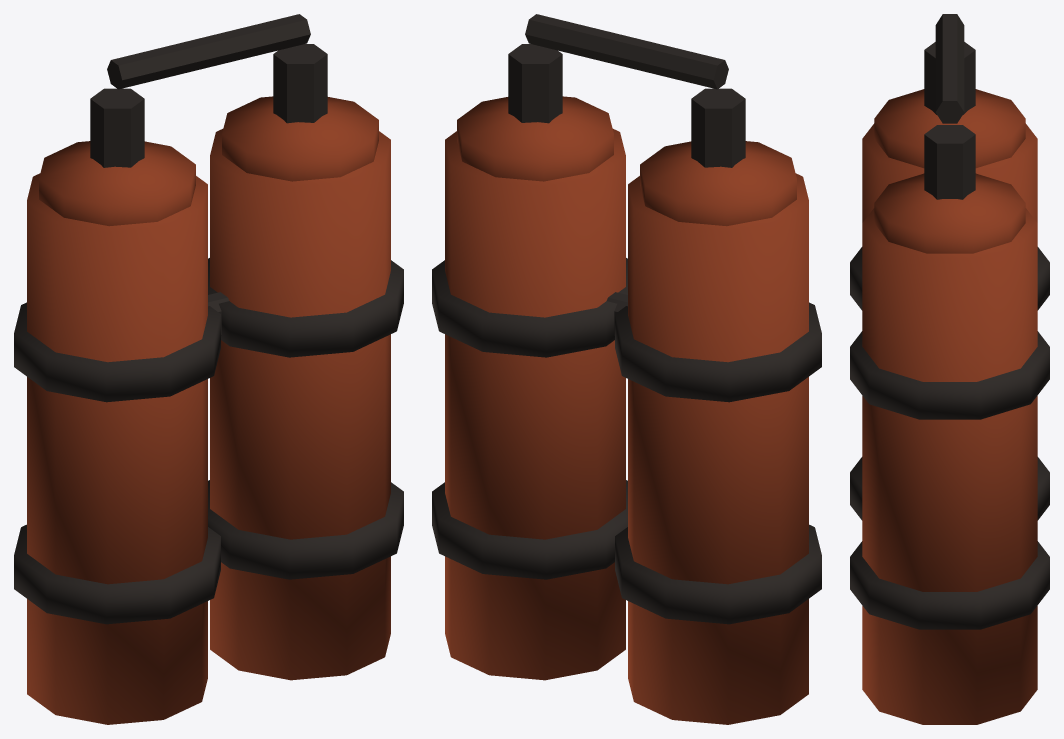
File: tank_pair.glb
3 views of the same model, side by side, from view 1: azimuth 30°, elevation 25°; view 2: azimuth 150°, elevation 25°; view 3: azimuth 270°, elevation 25° (orthographic). The views are drawn at different scales.
Parts seen in each view (by area): view 1: part.tank_pair; view 2: part.tank_pair; view 3: part.tank_pair.
Part boxes in pixels (bbox=[...]): part.tank_pair: bbox=[14, 14, 403, 724]; part.tank_pair: bbox=[432, 14, 821, 724]; part.tank_pair: bbox=[850, 14, 1049, 724].
Size of the model in its own units: 0.3785 by 0.6321 by 0.194.
